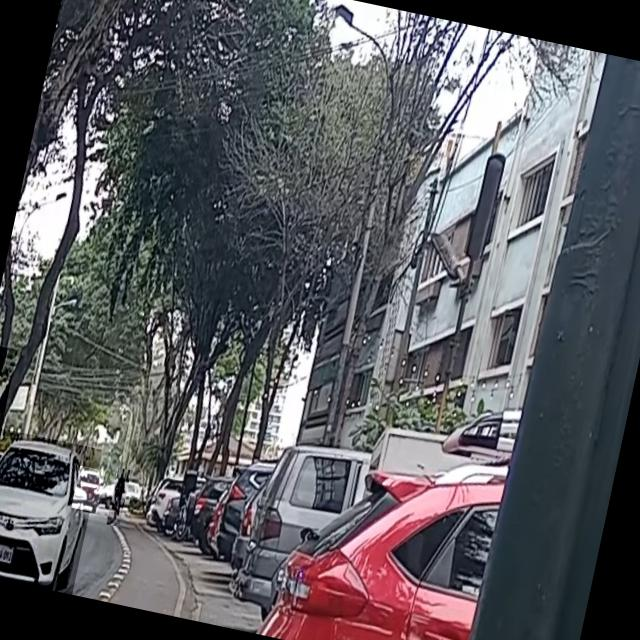bicycle: (106, 468, 131, 526)
car: (0, 426, 102, 594), (0, 343, 17, 572), (71, 465, 105, 513)
